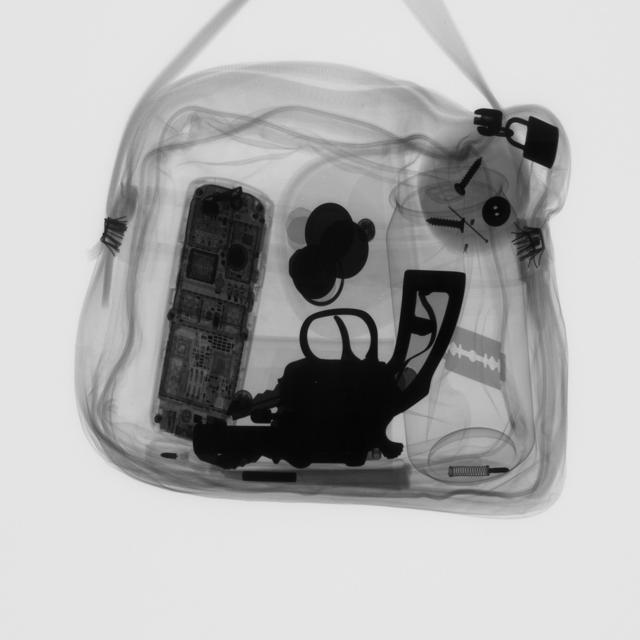gun: (193, 273, 478, 471)
razor: (441, 342, 508, 388)
snail: (450, 161, 482, 199), (422, 210, 468, 236)
